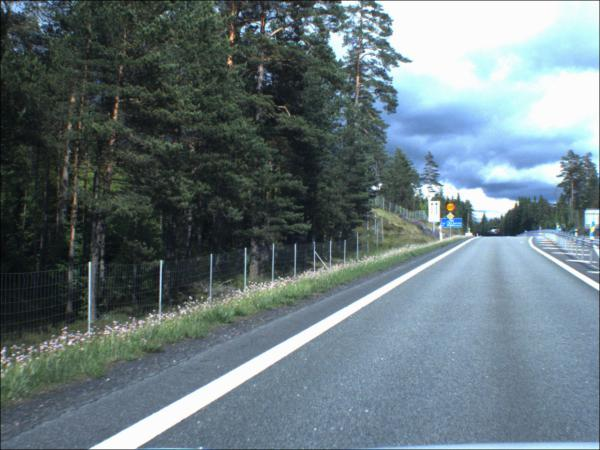100_SIGN: (446, 204, 456, 214)
PRIORITY_ROAD: (446, 214, 455, 222)
